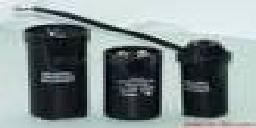Electrolytic-Capacitor: (166, 24, 235, 128), (21, 20, 93, 119), (104, 43, 163, 120)
